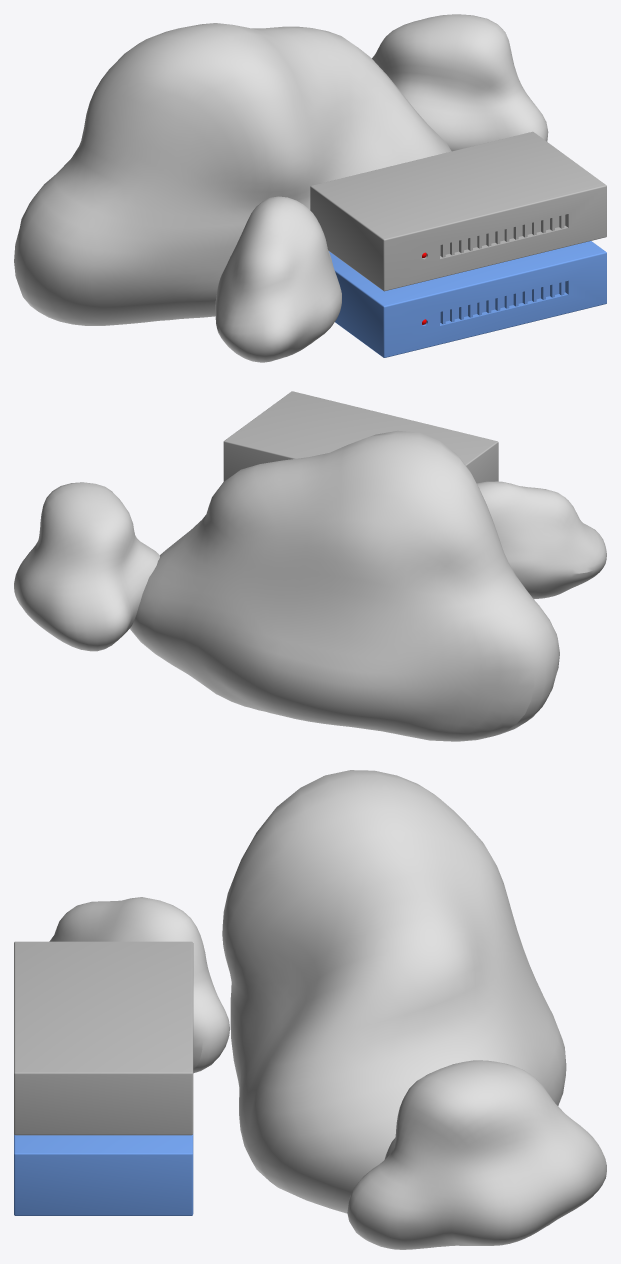
3 views of the same model, one above another, from view 1: azimuth 30°, elevation 25°; view 2: azimuth 150°, elevation 25°; view 3: azimuth 270°, elevation 25° (orthographic). The views are drawn at different scales.
Visible parts, largest first — view 1: 球体_1, 布尔_1, 布尔, 球体, 云1_1, 克隆, 克隆_1; view 2: 球体_1, 云1_1, 布尔_1, 球体; view 3: 球体_1, 布尔_1, 云1_1, 布尔, 球体.
Part boxes in pixels (left/top/right/bottom): 球体_1: left=14, top=23, right=451, bottom=325; 布尔_1: left=310, top=131, right=606, bottom=291; 布尔: left=329, top=241, right=606, bottom=357; 球体: left=215, top=196, right=341, bottom=362; 云1_1: left=372, top=14, right=548, bottom=151; 克隆: left=440, top=215, right=564, bottom=257; 克隆_1: left=440, top=282, right=564, bottom=324; 球体_1: left=130, top=430, right=559, bottom=741; 云1_1: left=14, top=482, right=159, bottom=651; 布尔_1: left=223, top=391, right=498, bottom=483; 球体: left=477, top=481, right=606, bottom=599; 球体_1: left=222, top=770, right=566, bottom=1213; 布尔_1: left=14, top=941, right=193, bottom=1135; 云1_1: left=347, top=1060, right=606, bottom=1249; 布尔: left=14, top=1134, right=193, bottom=1215; 球体: left=49, top=897, right=229, bottom=1073.
Bounding box in the file's own units: 4.73 × 2.44 × 3.8.
